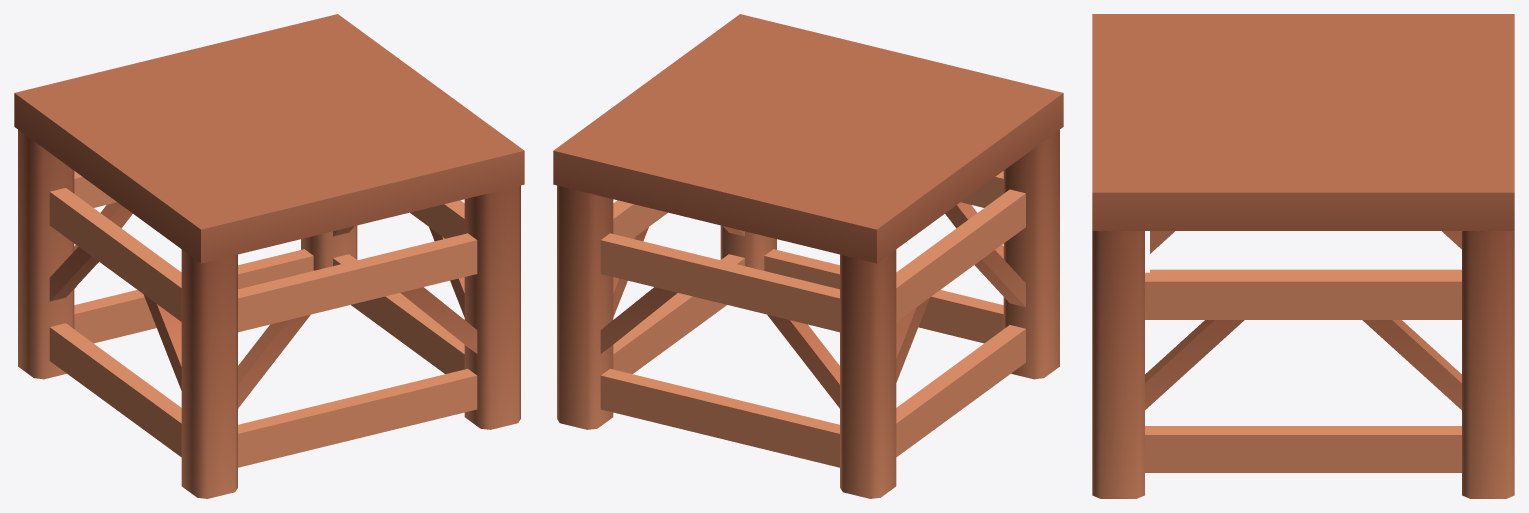
Rendered from structure-wood-platform.glb.
3 views of the same model, side by side, from view 1: azimuth 30°, elevation 25°; view 2: azimuth 150°, elevation 25°; view 3: azimuth 270°, elevation 25° (orthographic). The views are drawn at different scales.
Visible parts, largest first — view 1: structure-wood-platform; view 2: structure-wood-platform; view 3: structure-wood-platform.
Boxes of the visible parts, left/top/right/bottom form: structure-wood-platform: left=14, top=14, right=524, bottom=498; structure-wood-platform: left=553, top=14, right=1063, bottom=498; structure-wood-platform: left=1092, top=14, right=1514, bottom=498.
Bounding box in the file's own units: 1 × 0.8 × 1.
Materials: 1 (1 with a texture image).
